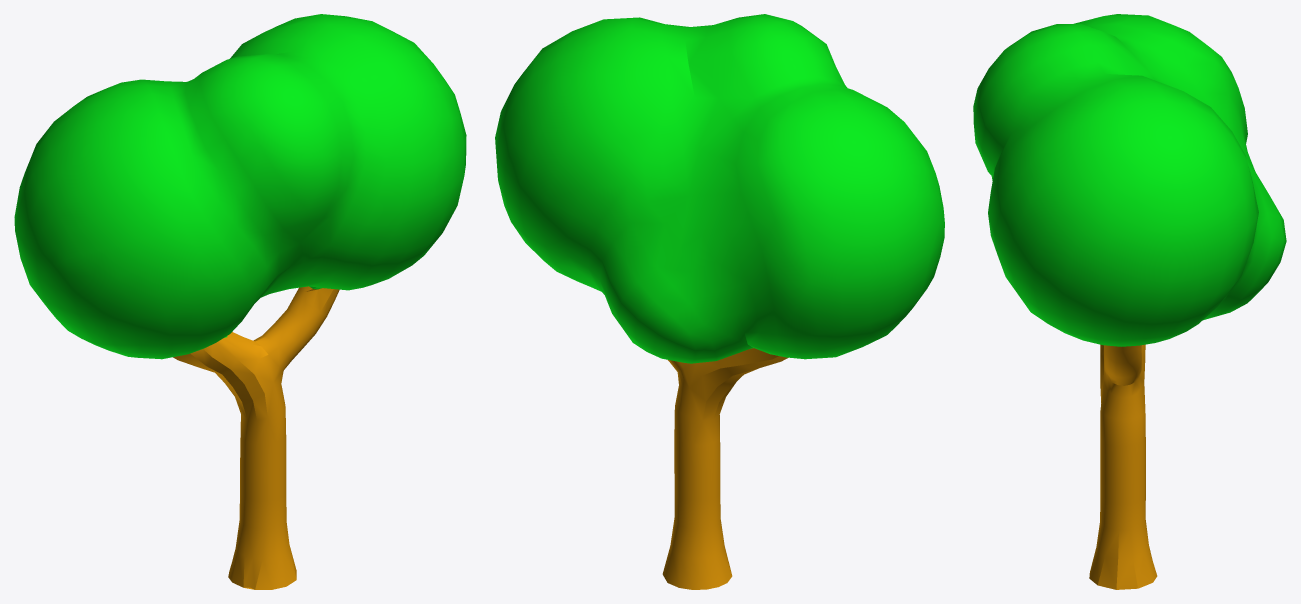
Rendered from arbol01.fbx.
3 renders of one model, left to right at view 1: azimuth 30°, elevation 25°; view 2: azimuth 150°, elevation 25°; view 3: azimuth 270°, elevation 25°, orthographic. The views are drawn at different scales.
Parts seen in each view (by area): view 1: Arbol; view 2: Arbol; view 3: Arbol.
Part boxes in pixels (left/top/right/bottom): Arbol: left=14, top=14, right=466, bottom=589; Arbol: left=495, top=14, right=944, bottom=589; Arbol: left=973, top=14, right=1286, bottom=589.
Size of the model in its own units: 531 by 662 by 356.
